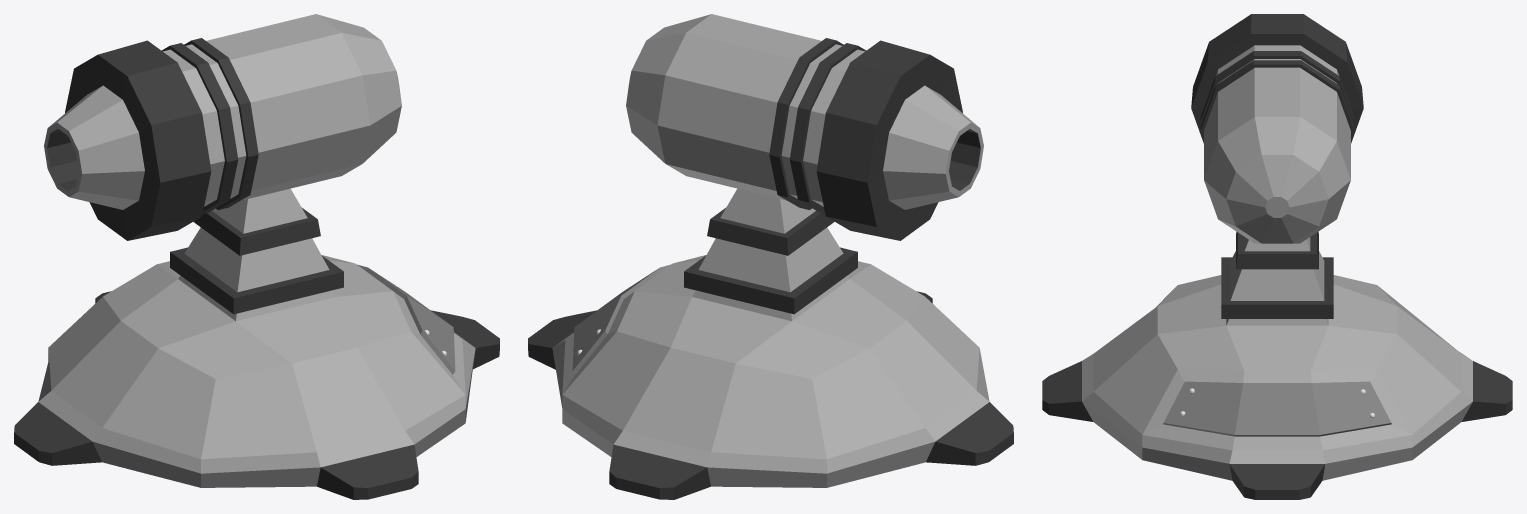
The model's file is Basic turret Blueprint.fbx.
The picture shows the model from 3 angles, left to right: view 1: azimuth 30°, elevation 25°; view 2: azimuth 150°, elevation 25°; view 3: azimuth 270°, elevation 25°; orthographic projection. The views are drawn at different scales.
Parts seen in each view (by area): view 1: Basic Turret; view 2: Basic Turret; view 3: Basic Turret.
Boxes of the visible parts, left/top/right/bottom form: Basic Turret: left=14, top=14, right=499, bottom=499; Basic Turret: left=528, top=14, right=1013, bottom=499; Basic Turret: left=1042, top=14, right=1512, bottom=499.
Bounding box in the file's own units: 59.22 × 45.6 × 59.22.
